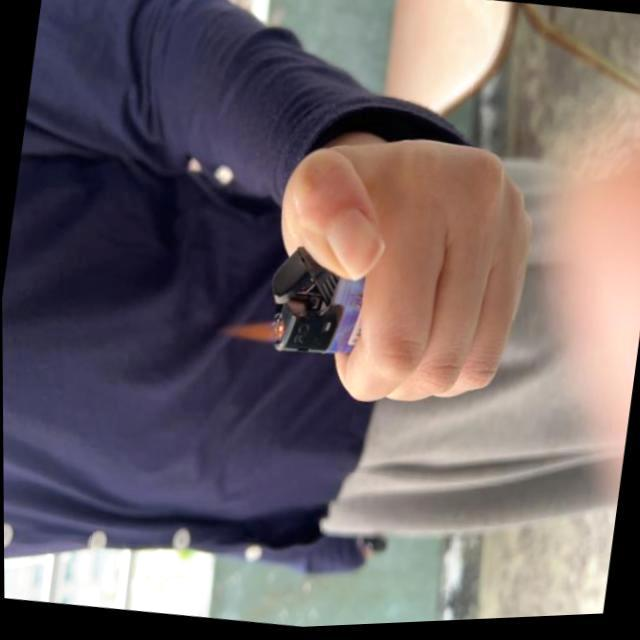fire: (222, 312, 284, 352)
